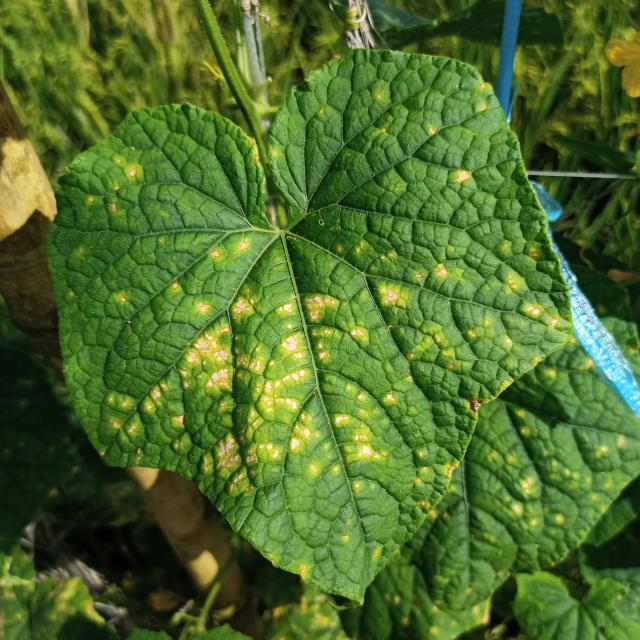disease_cucumber: (77, 84, 562, 514)
